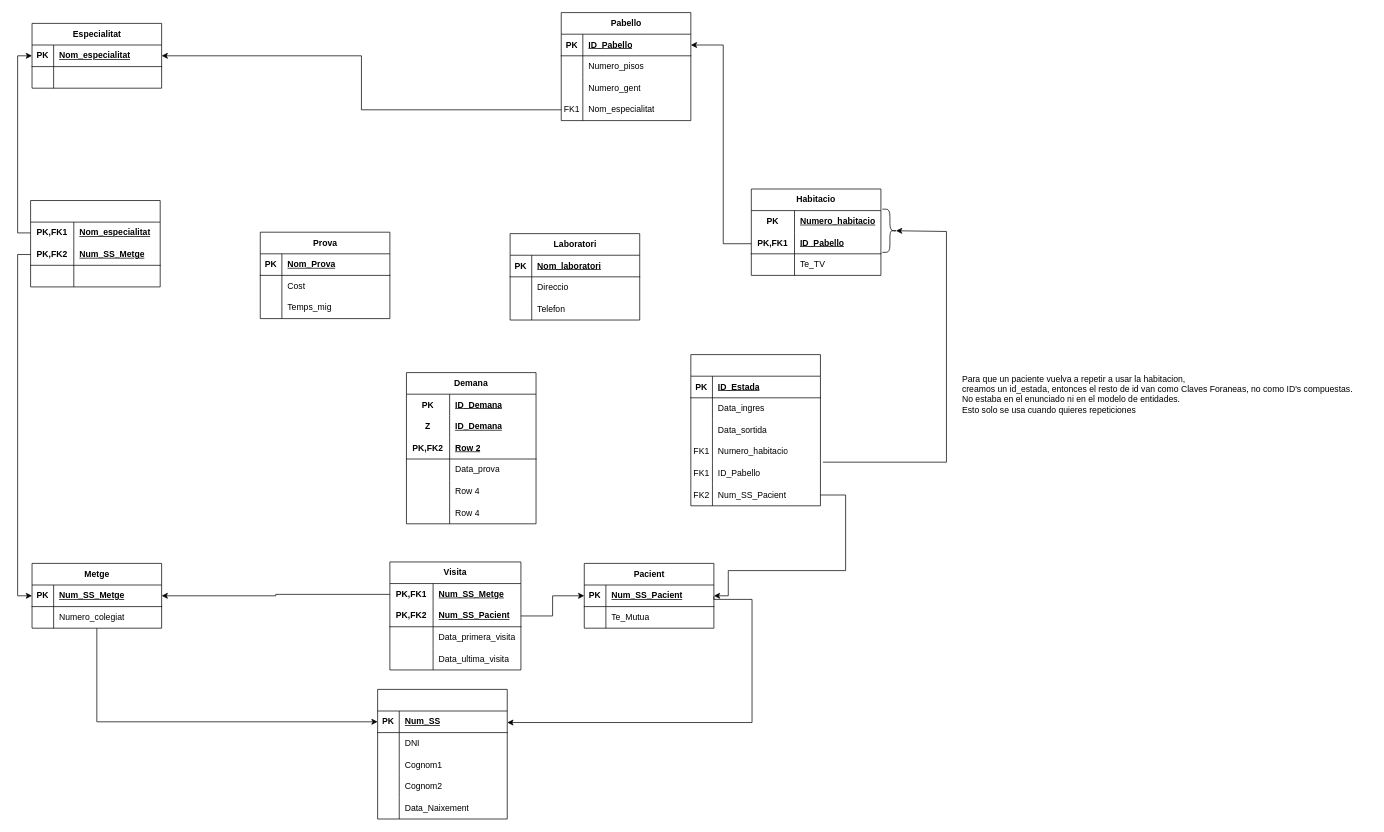
Some shapes in this 1384 by 832 pixel diagram are drawn without their labels. Here are the shapes that lost their labels. From the top down, the box of each, then its label:
(30, 200, 160, 287): Te
(690, 354, 820, 506): Table
(377, 689, 507, 819): Persona
